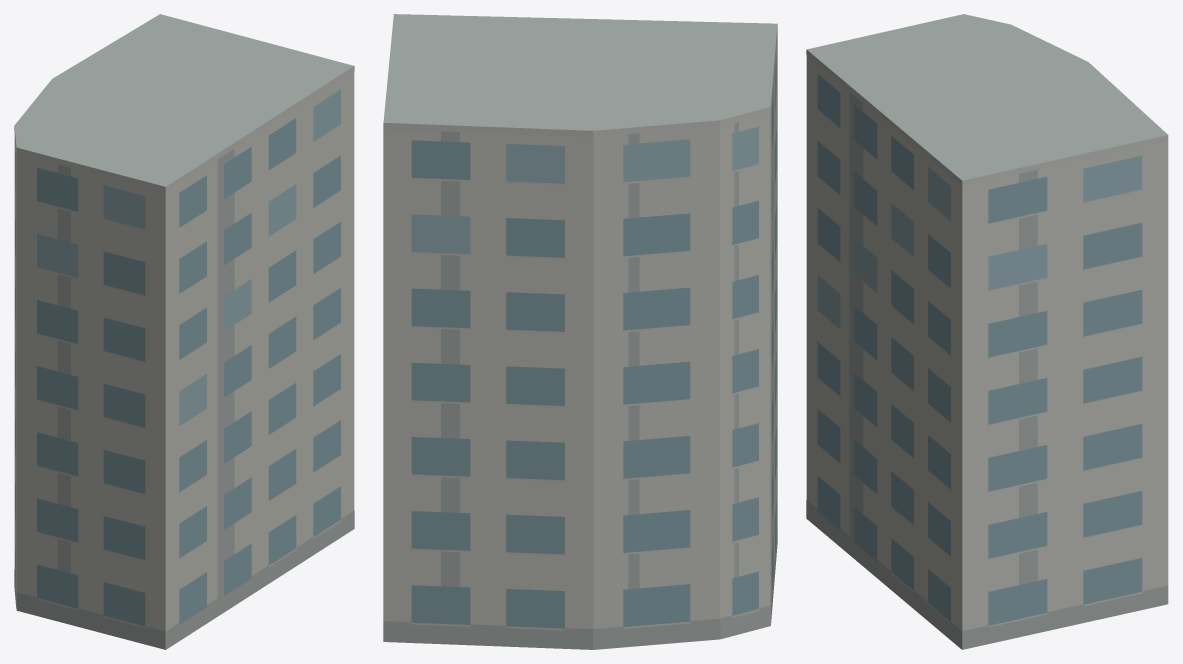
The model's file is survey-upis-32478414.glb.
The picture shows the model from 3 angles, left to right: view 1: azimuth 30°, elevation 25°; view 2: azimuth 150°, elevation 25°; view 3: azimuth 270°, elevation 25°; orthographic projection. The views are drawn at different scales.
Parts seen in each view (by area): view 1: survey-upis-32478414.tmp; view 2: survey-upis-32478414.tmp; view 3: survey-upis-32478414.tmp.
Boxes of the visible parts, x1,y1,x2,y2 form: survey-upis-32478414.tmp: [14, 14, 354, 649]; survey-upis-32478414.tmp: [383, 14, 777, 649]; survey-upis-32478414.tmp: [806, 14, 1168, 649].
Size of the model in its own units: 15.15 by 19.88 by 13.9.
